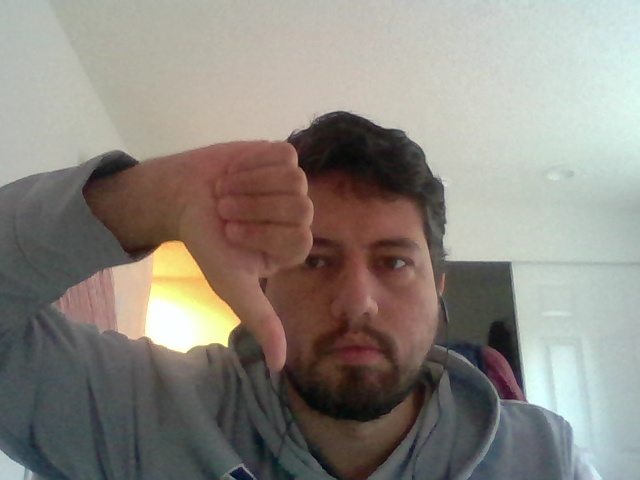ThumbsDown: (184, 137, 316, 380)
